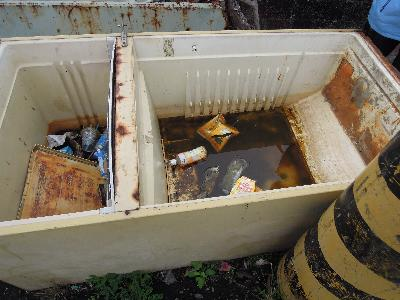bottle: (164, 142, 208, 168)
box: (3, 28, 400, 292)
